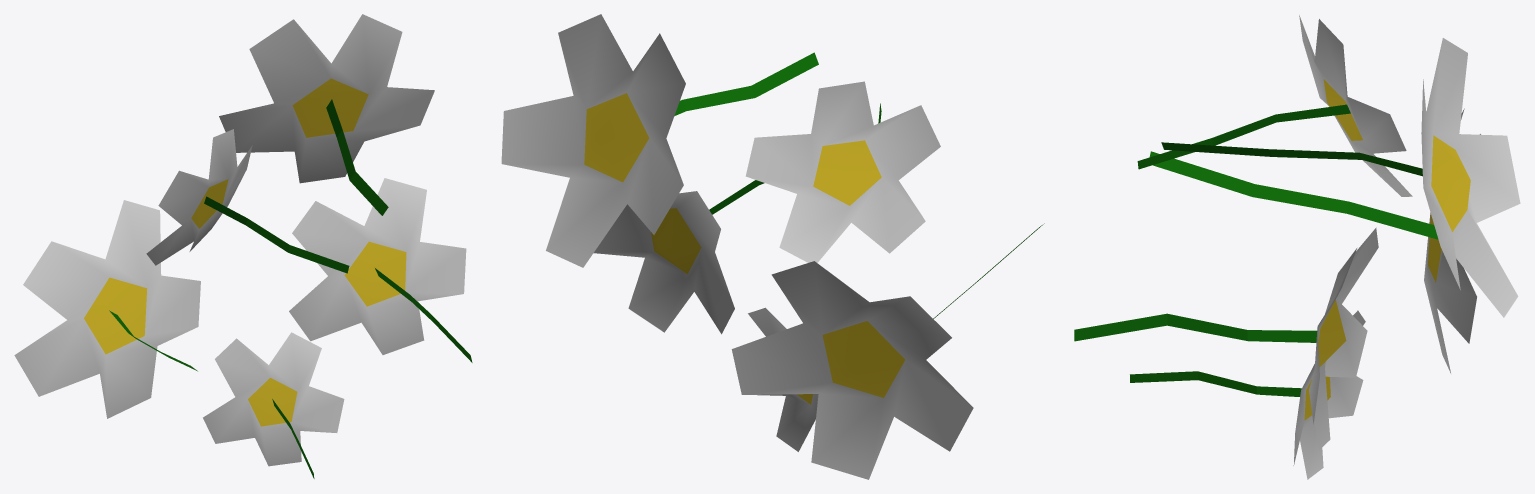
File: floare2.fbx
3 renders of one model, left to right at view 1: azimuth 30°, elevation 25°; view 2: azimuth 150°, elevation 25°; view 3: azimuth 270°, elevation 25°, orthographic. The views are drawn at different scales.
Visible parts, largest first — view 1: Flowers 3.001; view 2: Flowers 3.001; view 3: Flowers 3.001.
Boxes of the visible parts, x1,y1,x2,y2 form: Flowers 3.001: (14,14,472,478); Flowers 3.001: (501,14,1044,479); Flowers 3.001: (1074,15,1520,479).
Size of the model in its own units: 62.11 by 55.44 by 47.27.
